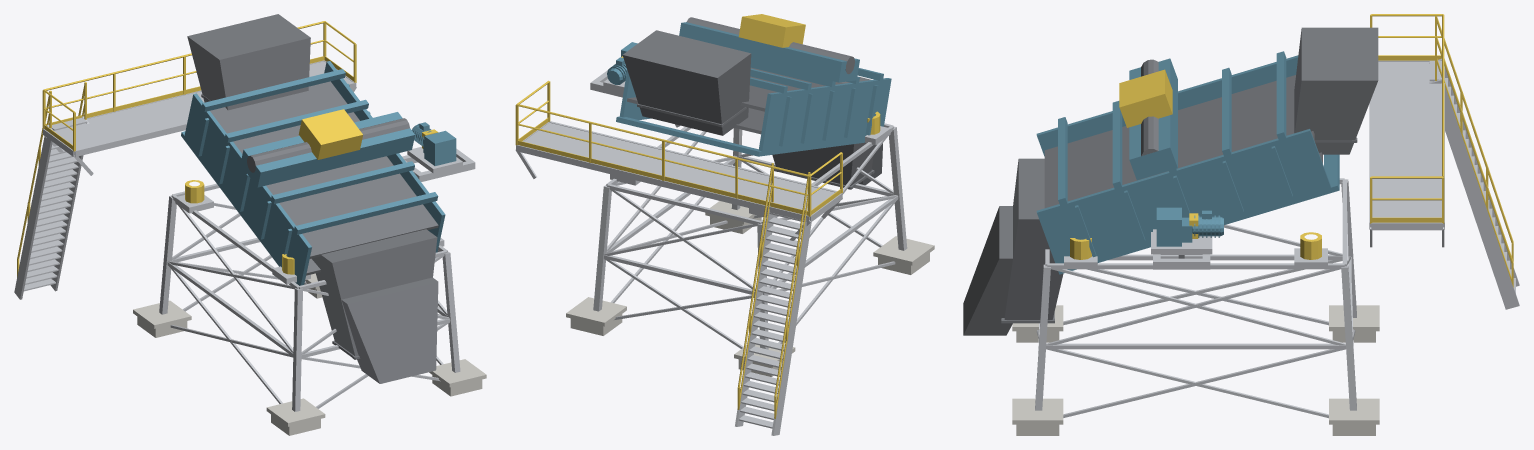
File: ore-processing-and-haulage-plant-vibrating-screen-deck-5cc91c38.glb
3 views of the same model, side by side, from view 1: azimuth 30°, elevation 25°; view 2: azimuth 150°, elevation 25°; view 3: azimuth 270°, elevation 25° (orthographic). The views are drawn at different scales.
Visible parts, largest first — view 1: vibrating-screen-deck; view 2: vibrating-screen-deck; view 3: vibrating-screen-deck.
Part boxes in pixels (box(x1,y1,x2,y2)): vibrating-screen-deck: box(14, 14, 486, 435); vibrating-screen-deck: box(515, 14, 934, 435); vibrating-screen-deck: box(963, 14, 1519, 435).
Bounding box in the file's own units: 8.84 × 7.5 × 11.59.
